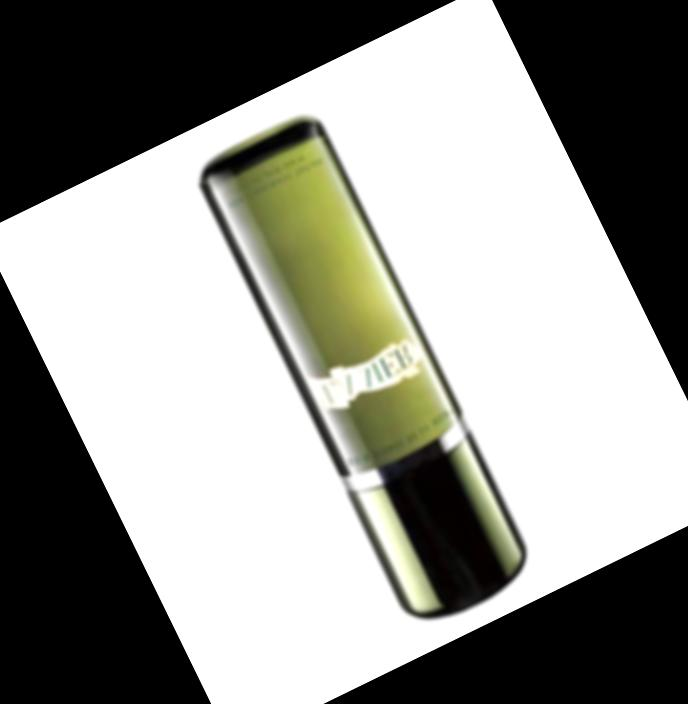cosmetic: (190, 106, 545, 627)
